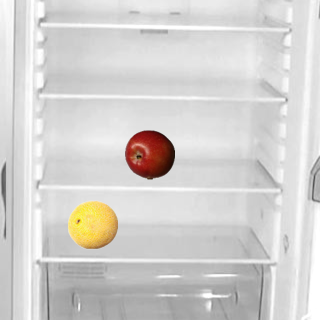Apple Braeburn: (124, 129, 174, 179)
Cantaloupe 1: (67, 199, 117, 249)
